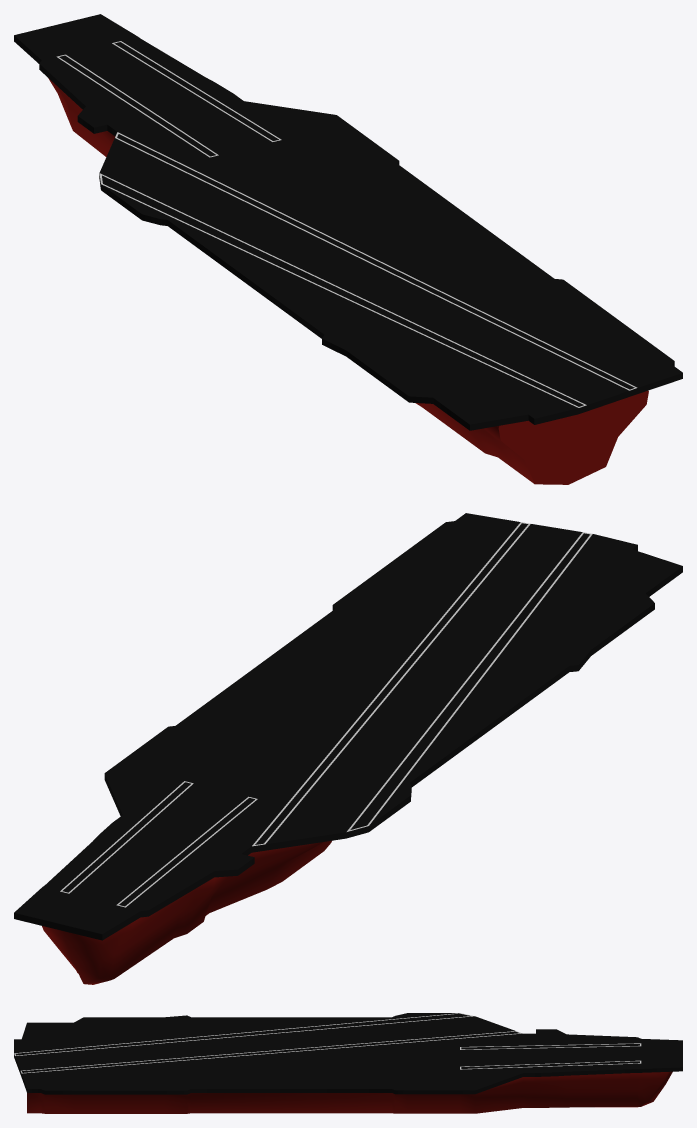
Rendered from aircraft_carrier_2024.obj.
3 views of the same model, one above another, from view 1: azimuth 30°, elevation 25°; view 2: azimuth 150°, elevation 25°; view 3: azimuth 270°, elevation 25° (orthographic). The views are drawn at different scales.
Parts seen in each view (by area): view 1: 0, 1, 2; view 2: 0, 1, 2; view 3: 0, 1, 2.
Part boxes in pixels (x1,y1,x2,y2): 0: (14,14,682,430); 1: (48,78,648,484); 2: (56,41,637,407); 0: (14,513,682,940); 1: (42,840,331,984); 2: (60,522,592,907); 0: (14,1013,682,1094); 1: (27,1071,672,1113); 2: (14,1013,641,1073).
Bounding box in the file's own units: 0.5352 × 0.1732 × 1.95.
